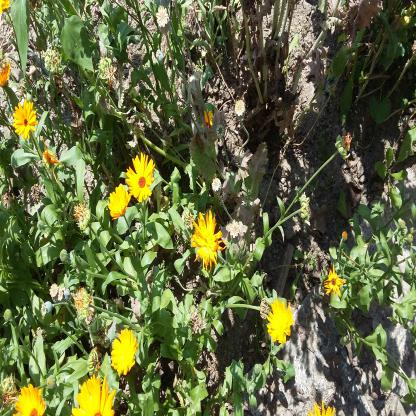marigold: (190, 211, 226, 271), (69, 374, 117, 415), (125, 151, 155, 203), (111, 326, 137, 378), (266, 295, 292, 344), (12, 98, 38, 141), (13, 384, 46, 415), (106, 182, 130, 217), (194, 107, 216, 139)
